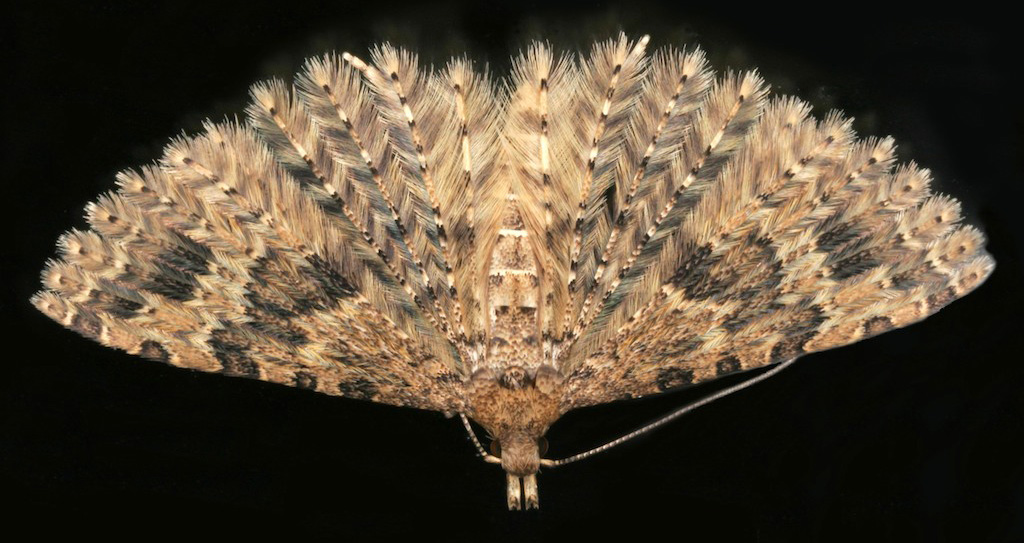Alucitidae: (27, 18, 1002, 520)
moth: (29, 20, 1004, 522)
